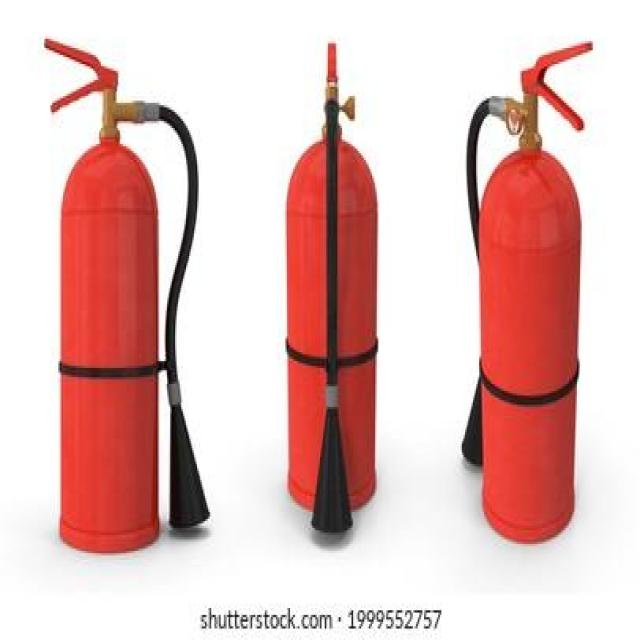fire_extinguisher: (38, 33, 213, 557), (454, 33, 596, 550), (280, 38, 382, 543)
